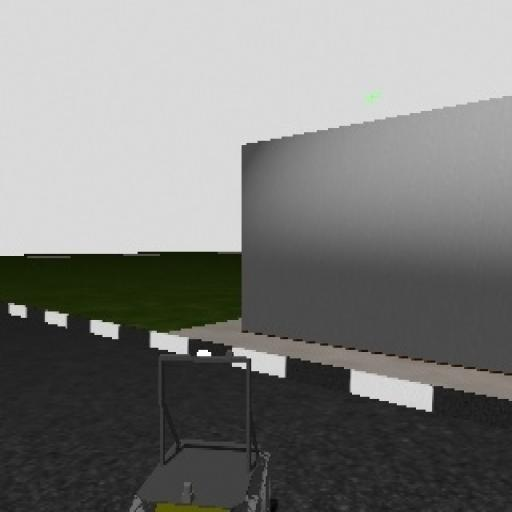huskya200: (124, 344, 288, 512)
